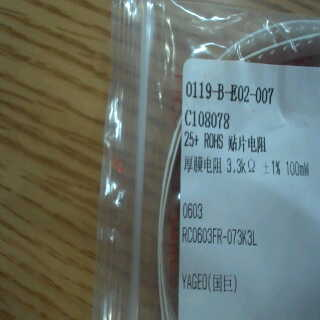3.3kO: (221, 154, 260, 181)
